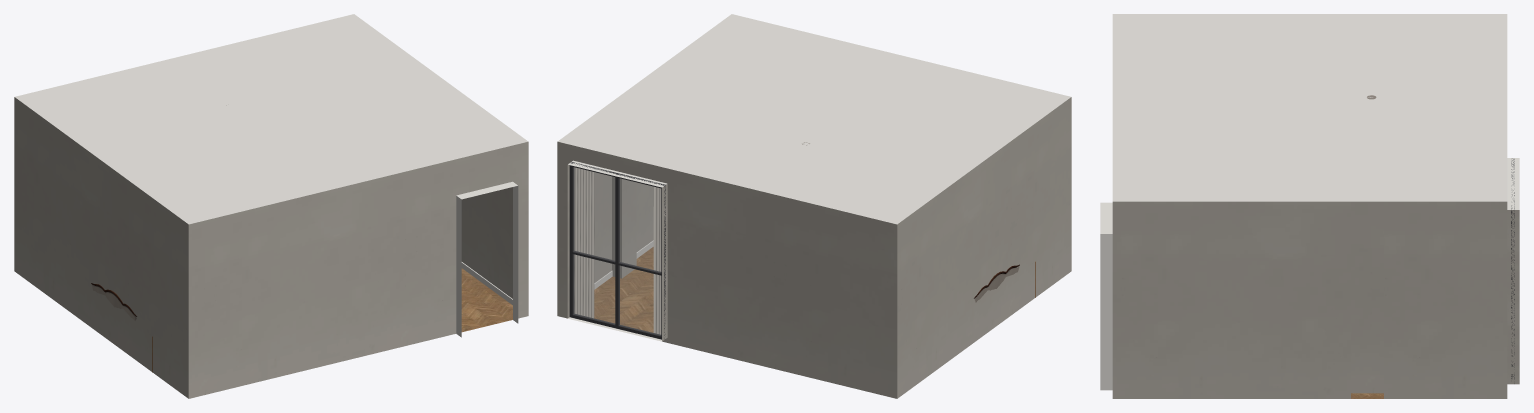
Rendered from room-high.glb.
The picture shows the model from 3 angles, left to right: view 1: azimuth 30°, elevation 25°; view 2: azimuth 150°, elevation 25°; view 3: azimuth 270°, elevation 25°; orthographic projection. The views are drawn at different scales.
Visible parts, largest first — view 1: ROOM; view 2: ROOM, GLASS_window; view 3: ROOM.
Part boxes in pixels (x1,y1,x2,y2): ROOM: (14,14,528,398); ROOM: (557,14,1071,398); GLASS_window: (573,167,660,334); ROOM: (1100,14,1519,398).
Bounding box in the file's own units: 5.42 × 2.65 × 5.1.
21 materials, 11 textured.
